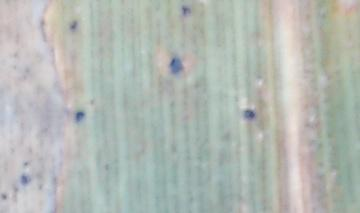tarspot: (168, 56, 184, 76), (241, 108, 257, 123), (20, 173, 32, 186), (180, 4, 192, 17), (74, 110, 85, 123), (34, 170, 46, 181), (68, 19, 78, 32), (22, 160, 31, 168), (8, 145, 16, 154), (103, 162, 111, 171), (23, 65, 31, 73), (1, 191, 8, 200), (12, 62, 19, 71), (37, 182, 44, 191), (26, 145, 32, 155), (12, 185, 20, 192), (51, 175, 58, 183), (168, 99, 175, 107), (11, 51, 18, 58), (89, 98, 95, 104)
